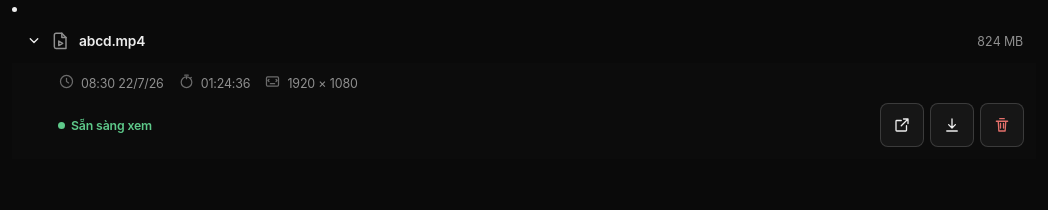
it: DriveFileRow › requires named confirmation and reports successful deletion
Click the button named "Xoá video abcd.mp4": point(1002, 125) [980, 103, 1024, 147]
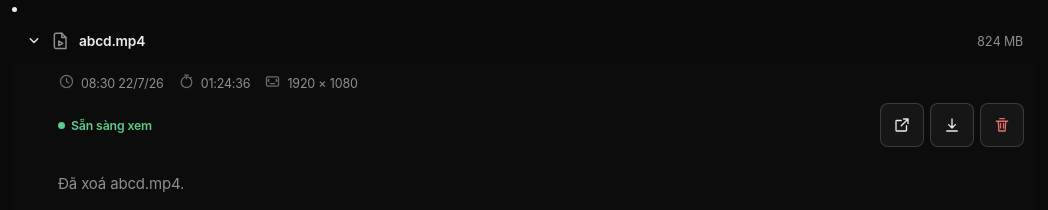
Expected: the message shows "Đã xoá abcd.mp4", [58, 174, 184, 193]
